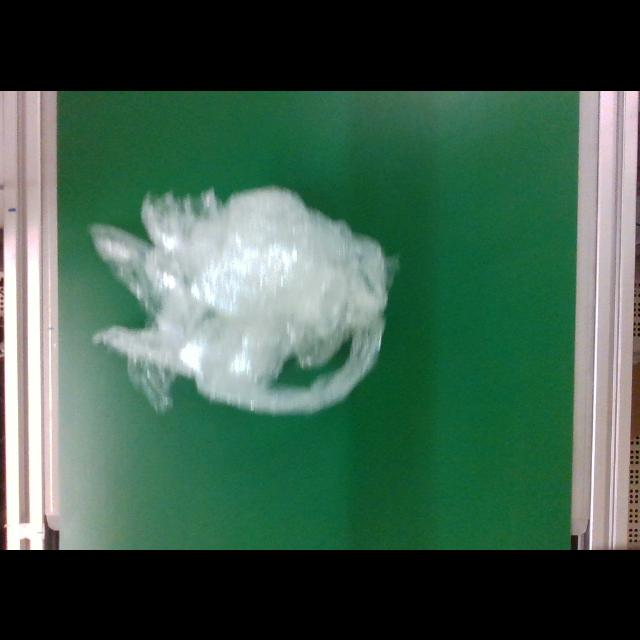scrap_plastic: (86, 182, 402, 418)
